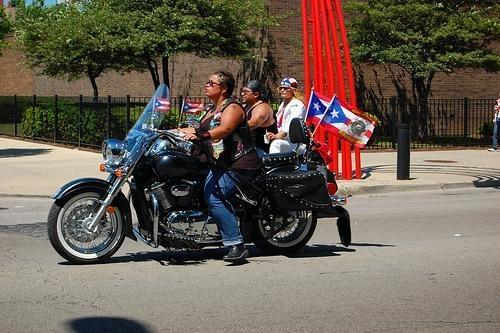motorcycle: (50, 87, 353, 262)
